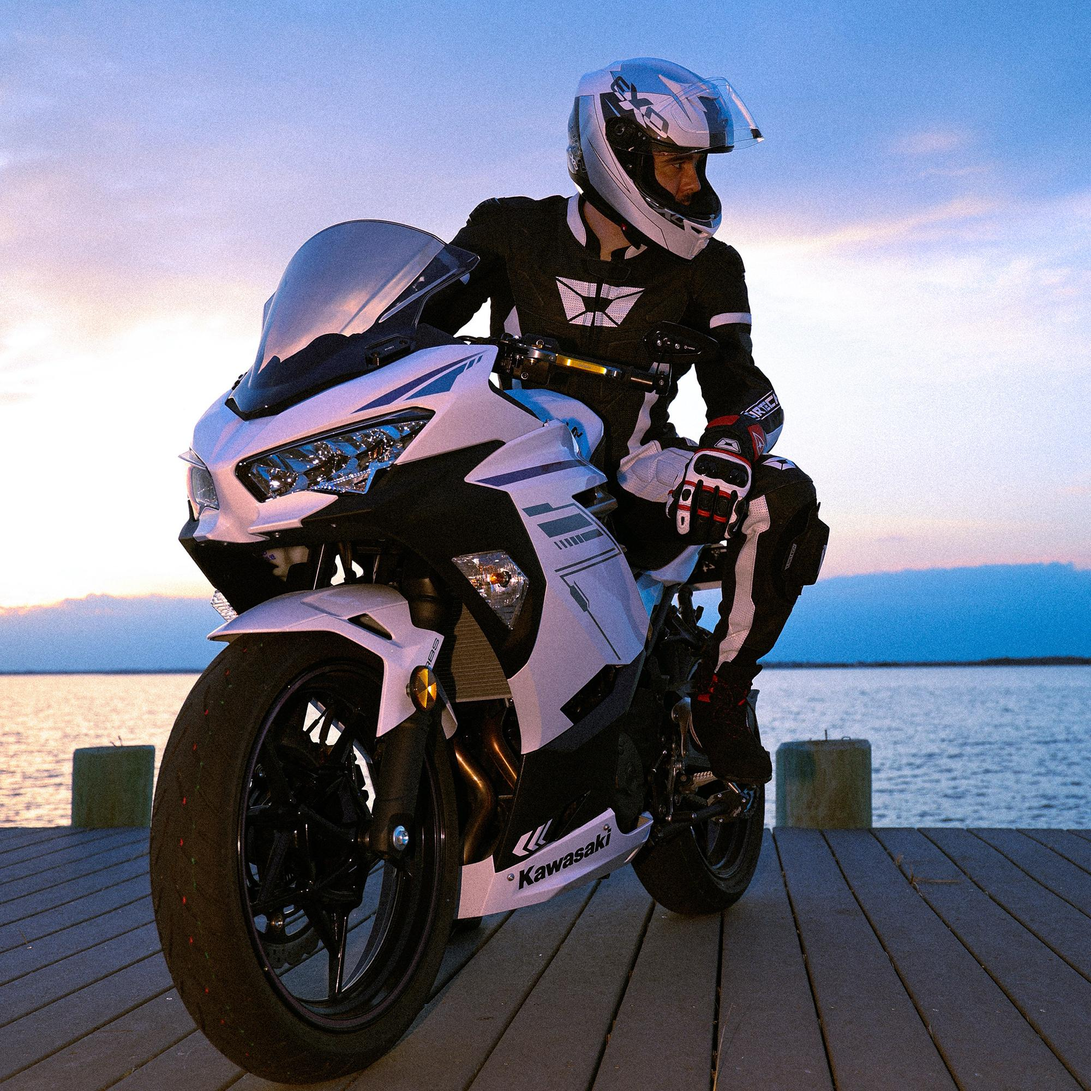helmet: (565, 56, 765, 266)
